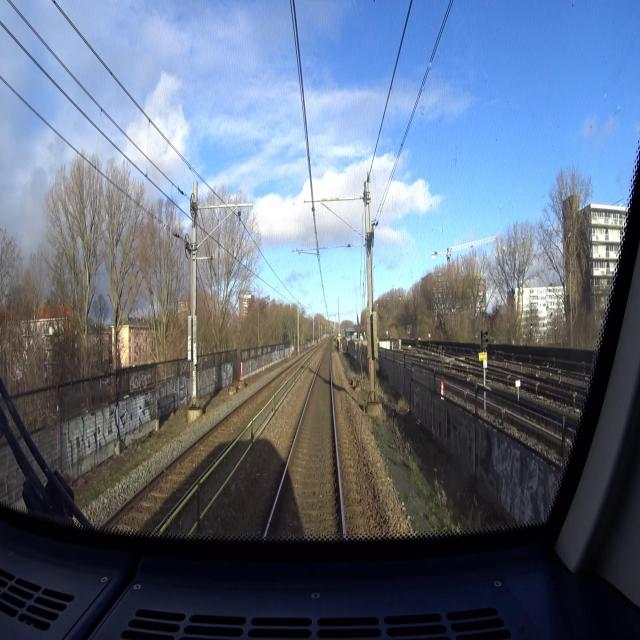rail-track: (110, 363, 298, 534), (267, 343, 343, 539)
